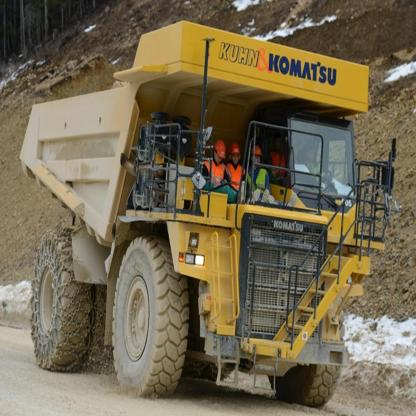dump_truck: (18, 12, 380, 406)
